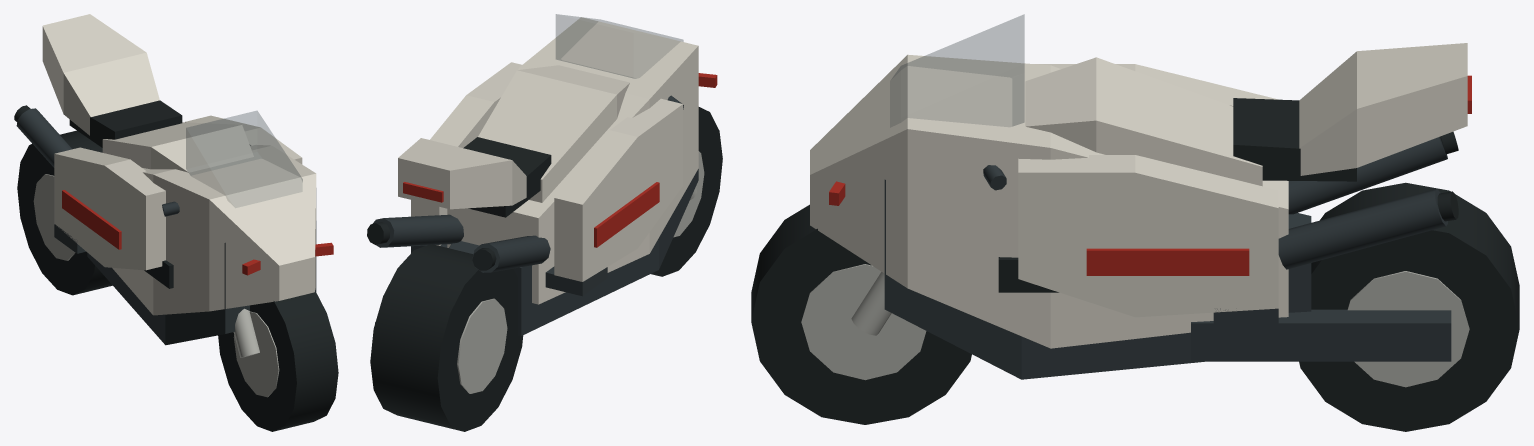
The picture shows the model from 3 angles, left to right: view 1: azimuth 30°, elevation 25°; view 2: azimuth 150°, elevation 25°; view 3: azimuth 270°, elevation 25°; orthographic projection. The views are drawn at different scales.
Parts seen in each view (by area): view 1: motorcycle-fleet-armor, front-wheel-fleet-rubber, breakaway-0-painted, motorcycle-fleet-glass, motorcycle-fleet-machine, rear-wheel-fleet-rubber, motorcycle-fleet-rubber, front-wheel-fleet-edge, motorcycle-fleet-red, rear-wheel-fleet-edge, breakaway-1-painted, steering-fleet-edge; view 2: motorcycle-fleet-armor, rear-wheel-fleet-rubber, breakaway-0-painted, motorcycle-fleet-machine, motorcycle-fleet-glass, front-wheel-fleet-rubber, rear-wheel-fleet-edge, breakaway-1-painted, motorcycle-fleet-rubber, motorcycle-fleet-red, front-wheel-fleet-edge; view 3: motorcycle-fleet-armor, motorcycle-fleet-machine, breakaway-1-painted, rear-wheel-fleet-rubber, front-wheel-fleet-rubber, motorcycle-fleet-glass, front-wheel-fleet-edge, motorcycle-fleet-rubber, rear-wheel-fleet-edge, motorcycle-fleet-red, breakaway-0-painted, steering-fleet-edge.
Part boxes in pixels (x1,y1,x2,y2): motorcycle-fleet-armor: (42,14,316,315); front-wheel-fleet-rubber: (218,290,338,431); breakaway-0-painted: (54,147,165,270); motorcycle-fleet-glass: (186,111,302,207); motorcycle-fleet-machine: (16,108,316,345); rear-wheel-fleet-rubber: (17,130,112,295); motorcycle-fleet-rubber: (14,100,182,288); front-wheel-fleet-edge: (233,311,279,397); motorcycle-fleet-red: (62,190,333,275); rear-wheel-fleet-edge: (33,174,75,260); breakaway-1-painted: (185,115,302,164); steering-fleet-edge: (233,308,259,357); motorcycle-fleet-armor: (398,17,698,304); rear-wheel-fleet-rubber: (370,244,523,431); breakaway-0-painted: (554,98,682,281); motorcycle-fleet-machine: (372,169,698,335); motorcycle-fleet-glass: (556,14,683,78); front-wheel-fleet-rubber: (651,107,722,276); rear-wheel-fleet-edge: (457,298,507,393); breakaway-1-painted: (411,62,521,245); motorcycle-fleet-rubber: (367,137,551,270); motorcycle-fleet-red: (403,73,717,247); front-wheel-fleet-edge: (673,151,704,237); motorcycle-fleet-armor: (810,43,1467,348); motorcycle-fleet-machine: (884,136,1451,379); breakaway-1-painted: (1018,155,1278,317); rear-wheel-fleet-rubber: (1299,182,1519,431); front-wheel-fleet-rubber: (751,204,971,424); motorcycle-fleet-glass: (890,14,1024,126); front-wheel-fleet-edge: (801,264,926,380); motorcycle-fleet-rubber: (998,98,1458,292); rear-wheel-fleet-edge: (1347,271,1469,387); motorcycle-fleet-red: (829,75,1471,275); breakaway-0-painted: (1035,64,1278,106); steering-fleet-edge: (851,272,891,335).
Size of the model in its own units: 4.29 by 6.6 by 12.37.
